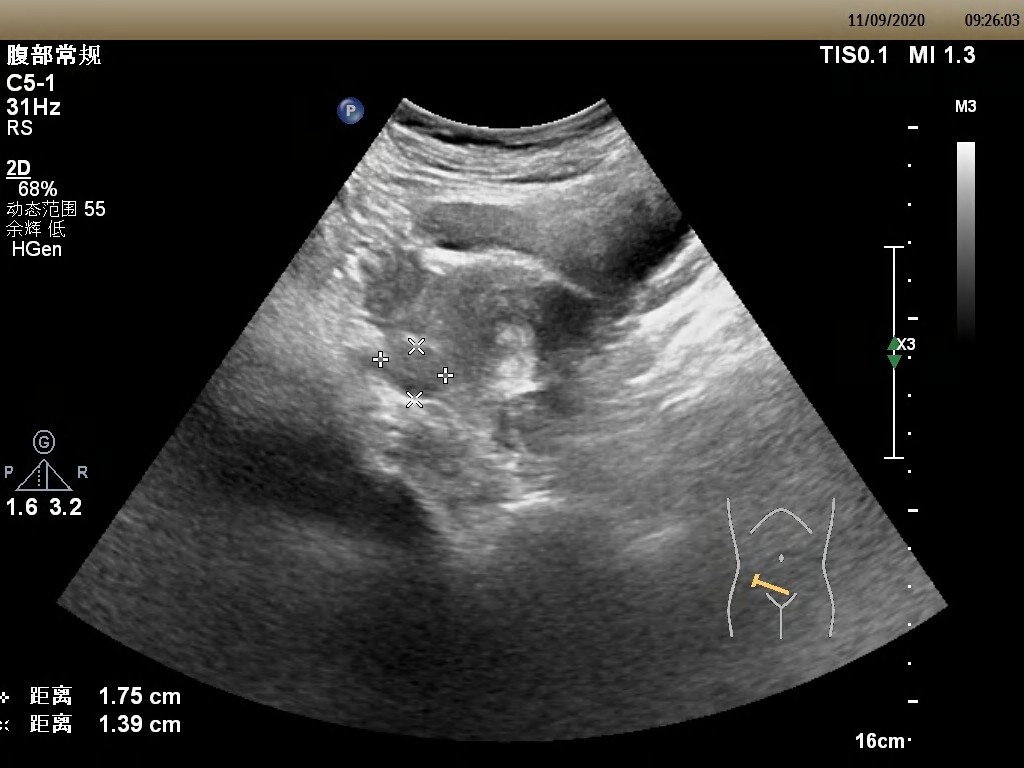肌瘤: (381, 349, 450, 395)
